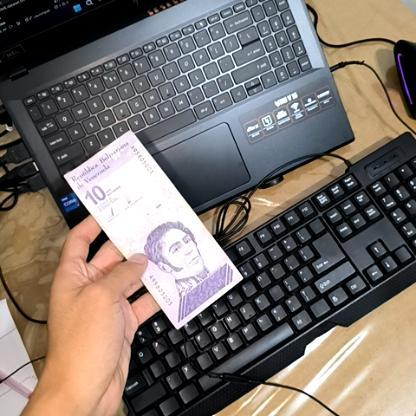ten-front-vef: (62, 130, 242, 331)
